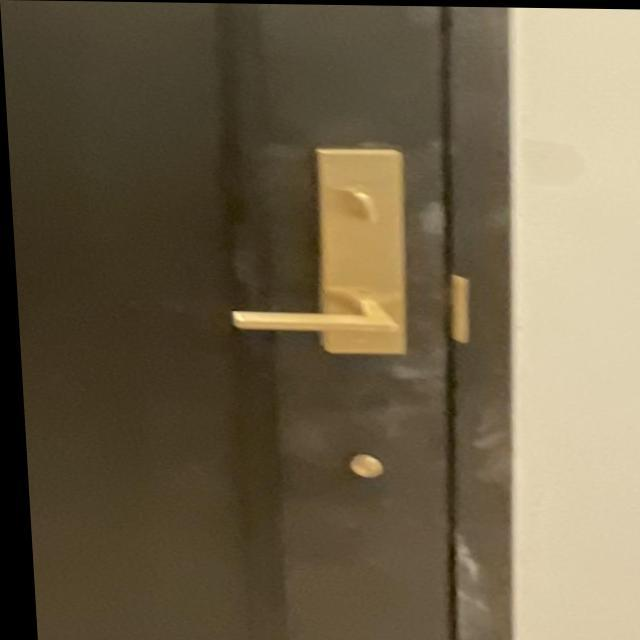door_handle: (215, 279, 428, 349)
